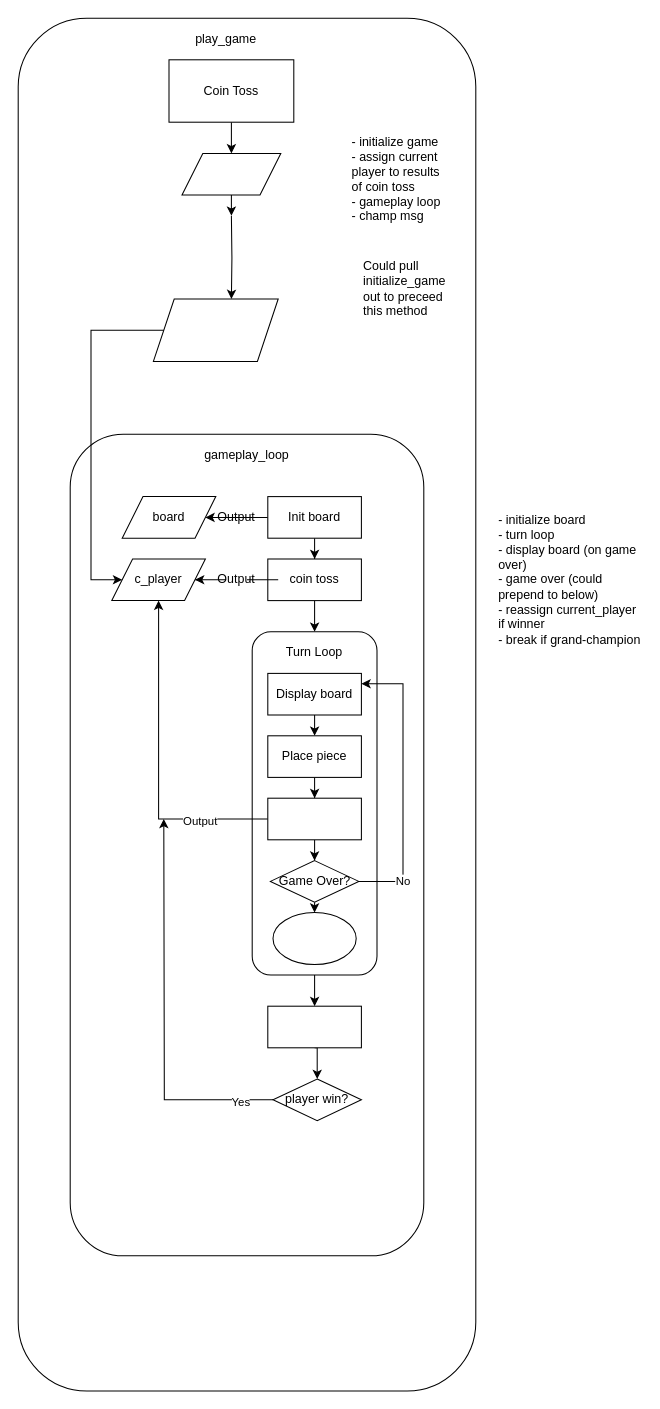
This 660x1409 diagram has some shape labels left out. The shapes that lost their labels are listed below. From the top down, each one's centre as x and y in pixels, then its label:
the point at 231,173: Winner
the point at 215,329: Current Player
the point at 314,818: Alternate
the point at 314,938: Break
the point at 314,1026: game_over
